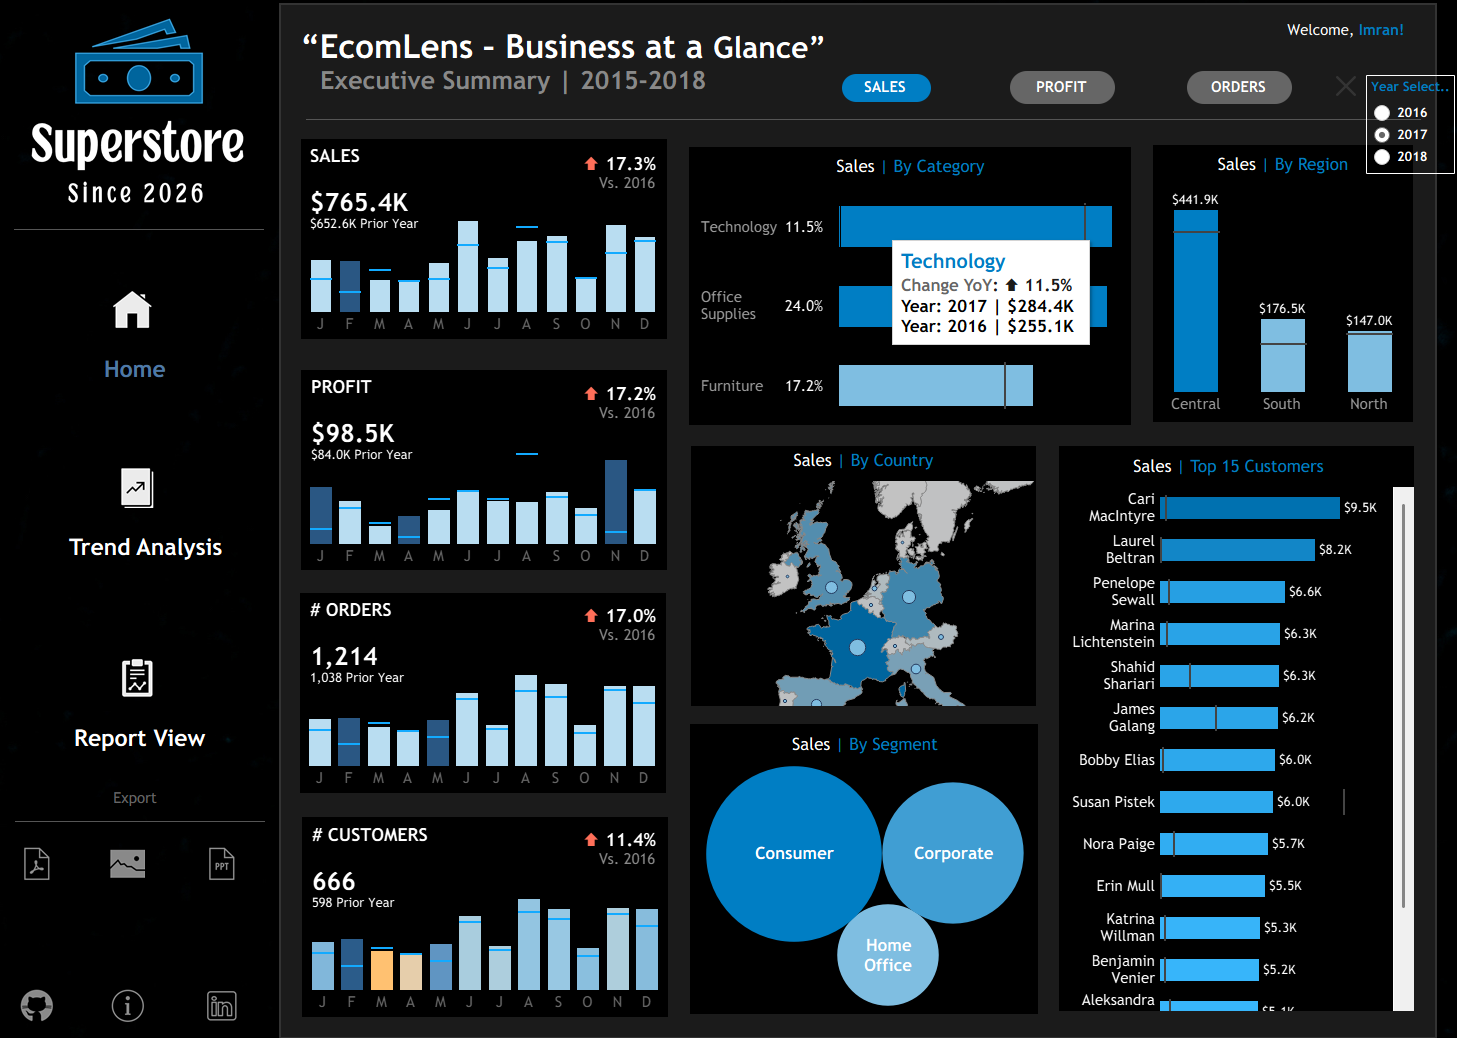

What the dashboard file says about the page in this screenshot:
{"tool":"tableau","page":{"name":"Home","canvas":[1460,1080],"ordinal":0},"visuals":[{"type":"image","param":"Image/photo-stone-texture-pattern.jpg","box":[0,0,1460,1080]},{"type":"image","param":"Image/Superstore logo.png","box":[20,22,238,208]},{"type":"text","box":[1267,34,142,30]},{"type":"text","box":[298,36,1124,90]},{"type":"worksheet","title":"Buttons","mark":"Shape","cols":["Calculation_0611627575574529","Calculation_0611627575635971","Calculation_0611627575668741"],"box":[799,83,529,46]},{"type":"dashboard-object","box":[1332,90,30,30]},{"type":"parameter","param":"[Parameters].[Parameter 0141585883742214]","box":[1367,94,89,99]},{"type":"blank","box":[307,138,1115,1]},{"type":"worksheet","title":"Sales","mark":"Automatic","box":[307,165,130,85]},{"type":"worksheet","title":"Sales Btn","mark":"Automatic","box":[561,165,100,54]},{"type":"worksheet","title":"Region Chart","mark":"Automatic","rows":["Calculation_0141585887199256","Calculation_0141585887449113"],"cols":["Region"],"box":[1154,169,260,272]},{"type":"worksheet","title":"Category Bar","mark":"Automatic","rows":["Category","Calculation_0141585887879195"],"cols":["Calculation_0141585887199256","Calculation_0141585887449113"],"box":[696,171,431,273]},{"type":"worksheet","title":"Sales Graph","mark":"Automatic","rows":["Calculation_0141585886392340","Sales Selected Year (copy)_0141585886621717"],"cols":["Order Date"],"box":[307,235,354,118]},{"type":"blank","box":[15,248,250,1]},{"type":"image","param":"Image/icons8-home-100.png","box":[113,309,40,40]},{"type":"dashboard-object","box":[55,362,164,52]},{"type":"worksheet","title":"Profit Btn","mark":"Automatic","box":[561,395,100,54]},{"type":"worksheet","title":"Profit","mark":"Automatic","box":[308,396,130,85]},{"type":"worksheet","title":"Map","mark":"Multipolygon","box":[692,465,345,260]},{"type":"worksheet","title":"Profit Graph","mark":"GanttBar","rows":["Calculation_0141585885761552","Profit Selected Year (copy)_0141585885859857"],"cols":["Order Date"],"box":[307,467,354,118]},{"type":"worksheet","title":"Top Customers","mark":"Automatic","rows":["Customer Name"],"cols":["Calculation_0141585887199256","Calculation_0141585887449113"],"box":[1065,471,350,559]},{"type":"image","param":"Image/icons8-trend-100.png","box":[118,487,40,40]},{"type":"dashboard-object","box":[47,540,200,52]},{"type":"worksheet","title":"Orders Btn","mark":"Automatic","box":[561,617,100,54]},{"type":"worksheet","title":"Orders","mark":"Automatic","box":[307,619,130,85]},{"type":"image","param":"Image/icons8-report-100.png","box":[118,677,40,40]},{"type":"worksheet","title":"Orders Graph","mark":"GanttBar","rows":["Calculation_0141585884811276","Orders Selected Year (copy)_0141585885024269"],"cols":["Order Date"],"box":[306,689,354,118]},{"type":"dashboard-object","box":[59,731,164,52]},{"type":"worksheet","title":"Segment chart","mark":"Circle","box":[703,749,326,276]},{"type":"text","box":[86,802,100,30]},{"type":"blank","box":[16,840,250,1]},{"type":"worksheet","title":"Customers Btn","mark":"Automatic","box":[561,841,100,54]},{"type":"worksheet","title":"Customers","mark":"Automatic","box":[309,844,130,85]},{"type":"image","param":"Image/icons8-pdf-100.png","box":[20,860,35,45]},{"type":"image","param":"Image/icons8-image-100.png","box":[111,860,35,45]},{"type":"image","param":"Image/icons8-ppt-100.png","box":[205,860,35,45]},{"type":"worksheet","title":"Customers Graph","mark":"GanttBar","rows":["Calculation_0141585884008455","Customers Selected Year (copy)_0141585884176392"],"cols":["Order Date"],"box":[309,913,354,118]},{"type":"image","param":"Image/icons8-github-100.png","box":[20,1002,35,45]},{"type":"image","param":"Image/icons8-info-100.png","box":[111,1002,35,45]},{"type":"image","param":"Image/icons8-linked-in-100.png","box":[205,1002,35,45]}]}

Visuals, with their boxes on the page's 1460x1080 design canvas (x1, y1, x2, y2). These are canvas units, not pixel positions in the 1457x1038 screenshot, which may show the page scaled, cropped or inside an application window:
image: locate(0, 0, 1460, 1080)
image: locate(20, 22, 258, 230)
text: locate(1267, 34, 1409, 64)
text: locate(298, 36, 1422, 126)
"Buttons" worksheet (Shape marks): locate(799, 83, 1328, 129)
dashboard-object: locate(1332, 90, 1362, 120)
parameter: locate(1367, 94, 1456, 193)
blank: locate(307, 138, 1422, 139)
"Sales" worksheet: locate(307, 165, 437, 250)
"Sales Btn" worksheet: locate(561, 165, 661, 219)
"Region Chart" worksheet: locate(1154, 169, 1414, 441)
"Category Bar" worksheet: locate(696, 171, 1127, 444)
"Sales Graph" worksheet: locate(307, 235, 661, 353)
blank: locate(15, 248, 265, 249)
image: locate(113, 309, 153, 349)
dashboard-object: locate(55, 362, 219, 414)
"Profit Btn" worksheet: locate(561, 395, 661, 449)
"Profit" worksheet: locate(308, 396, 438, 481)
"Map" worksheet (Multipolygon marks): locate(692, 465, 1037, 725)
"Profit Graph" worksheet (GanttBar marks): locate(307, 467, 661, 585)
"Top Customers" worksheet: locate(1065, 471, 1415, 1030)
image: locate(118, 487, 158, 527)
dashboard-object: locate(47, 540, 247, 592)
"Orders Btn" worksheet: locate(561, 617, 661, 671)
"Orders" worksheet: locate(307, 619, 437, 704)
image: locate(118, 677, 158, 717)
"Orders Graph" worksheet (GanttBar marks): locate(306, 689, 660, 807)
dashboard-object: locate(59, 731, 223, 783)
"Segment chart" worksheet (Circle marks): locate(703, 749, 1029, 1025)
text: locate(86, 802, 186, 832)
blank: locate(16, 840, 266, 841)
"Customers Btn" worksheet: locate(561, 841, 661, 895)
"Customers" worksheet: locate(309, 844, 439, 929)
image: locate(20, 860, 55, 905)
image: locate(111, 860, 146, 905)
image: locate(205, 860, 240, 905)
"Customers Graph" worksheet (GanttBar marks): locate(309, 913, 663, 1031)
image: locate(20, 1002, 55, 1047)
image: locate(111, 1002, 146, 1047)
image: locate(205, 1002, 240, 1047)
